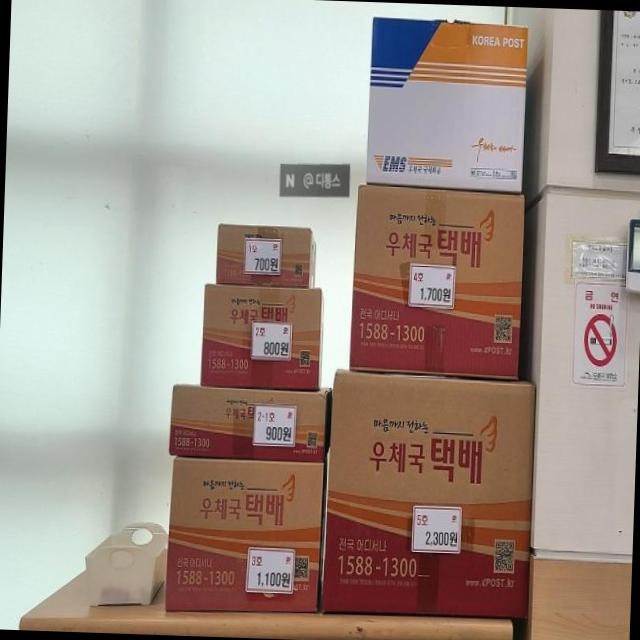box: (323, 368, 537, 620), (349, 184, 525, 380), (366, 16, 529, 195), (164, 454, 326, 612), (199, 282, 323, 391), (168, 383, 333, 463), (216, 223, 317, 289)
